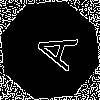A: (25, 25, 79, 72)
